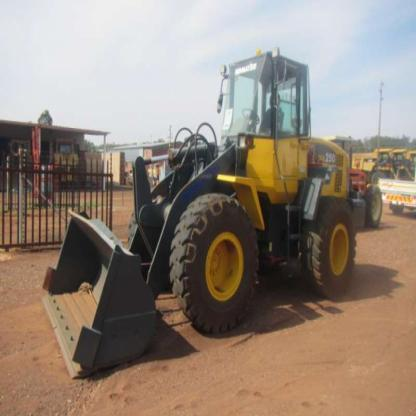bull_dozer/loader/grader: (35, 36, 362, 384)
